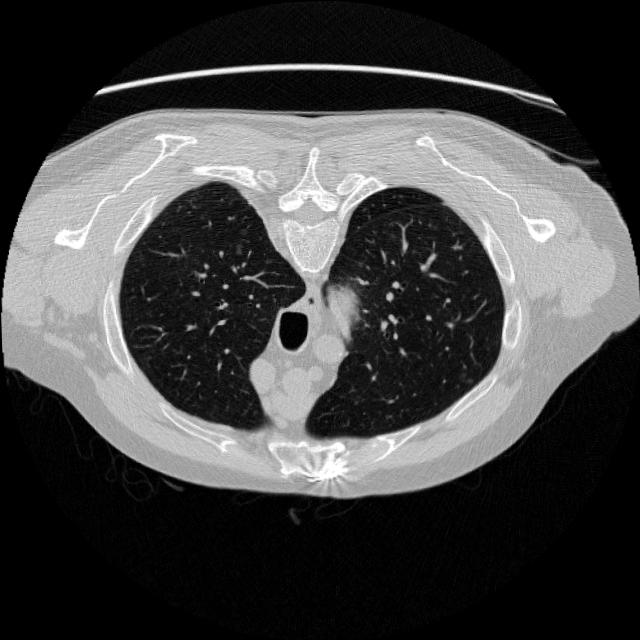nodule: (227, 240, 246, 258)
